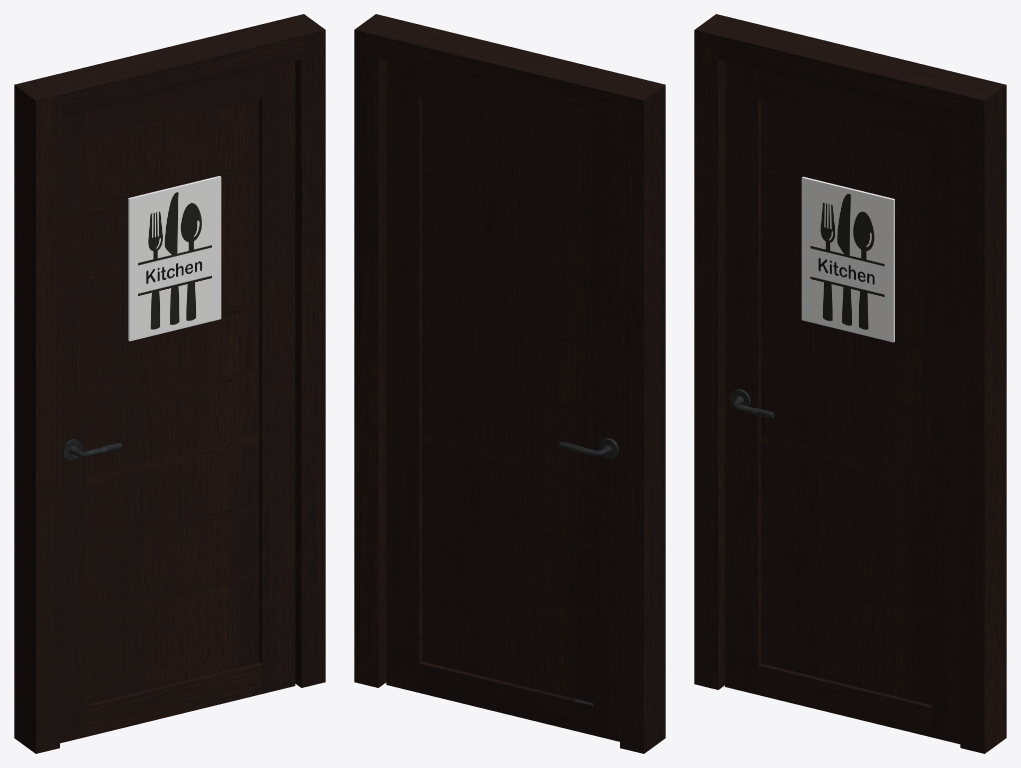
Rendered from Door 2.FBX.
The picture shows the model from 3 angles, left to right: view 1: azimuth 30°, elevation 25°; view 2: azimuth 150°, elevation 25°; view 3: azimuth 330°, elevation 25°; orthographic projection.
Visible parts, largest first — view 1: Door, door frame; view 2: Door, door frame; view 3: Door, door frame.
Part boxes in pixels (x1,y1,x2,y2): Door: [60, 61, 295, 743]; door frame: [14, 14, 325, 753]; Door: [386, 61, 619, 741]; door frame: [354, 14, 665, 753]; Door: [725, 61, 960, 744]; door frame: [694, 14, 1006, 753].
Bounding box in the file's own units: 97.18 × 210 × 17.14.
Materials: 2 (2 with a texture image).
